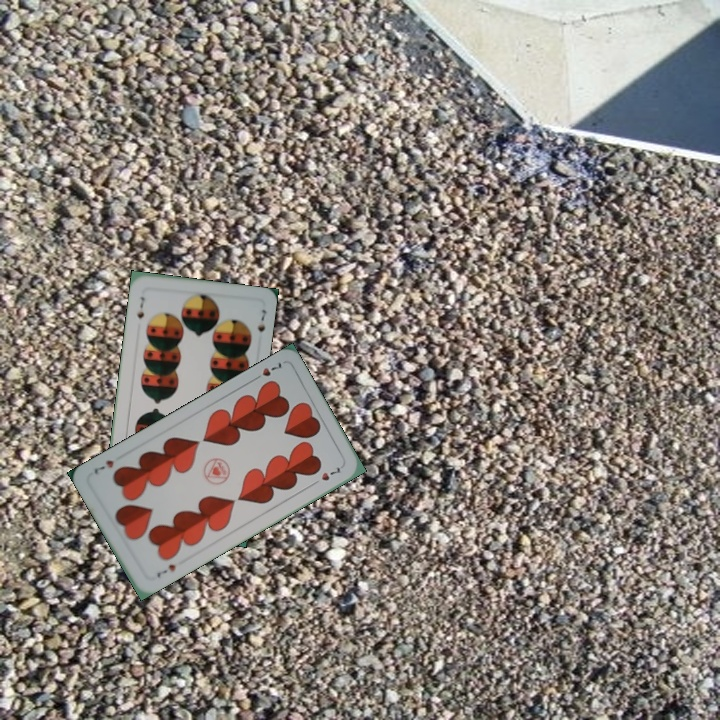H7: (248, 357, 284, 384), (153, 560, 179, 580)
S7: (133, 293, 147, 321)
